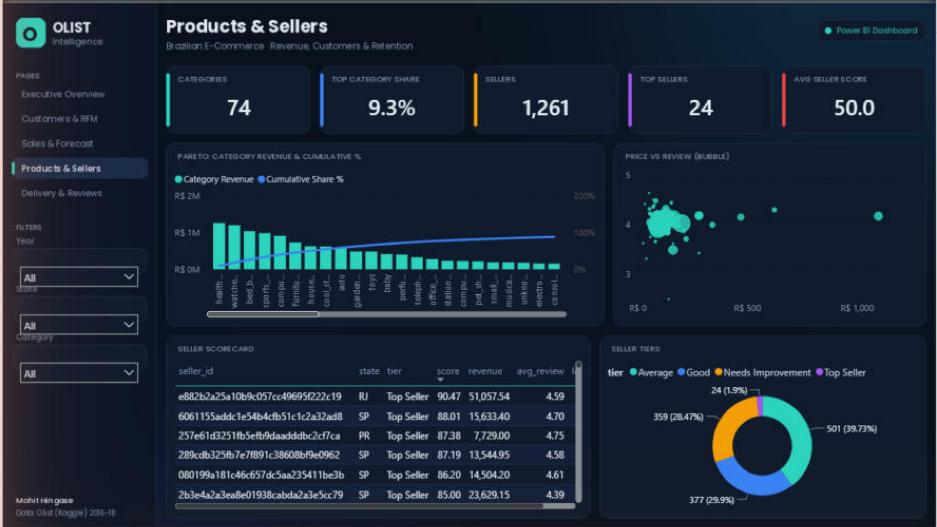

Layout of this report page (visuals, bound fields, positions):
{"tool":"powerbi","page":{"name":"Products & Sellers","canvas":[1280,720],"ordinal":3},"visuals":[{"type":"card","fields":{"Values":["agg_category.Category Count"]},"box":[234,112,179,62],"z":1000},{"type":"card","fields":{"Values":["agg_category.Top Category Share %"]},"box":[445,112,179,62],"z":1000},{"type":"card","fields":{"Values":["agg_seller_scorecard.Seller Count"]},"box":[656,112,179,62],"z":1000},{"type":"card","fields":{"Values":["agg_seller_scorecard.Top Sellers"]},"box":[868,112,179,62],"z":1000},{"type":"card","fields":{"Values":["agg_seller_scorecard.Avg Seller Score"]},"box":[1079,112,179,62],"z":1000},{"type":"lineClusteredColumnComboChart","fields":{"Category":["agg_category.category"],"Y":["agg_category.Category Revenue"],"Y2":["agg_category.Cumulative Share %"]},"box":[230,222,588,214],"z":1000},{"type":"scatterChart","fields":{"Category":["agg_category.category"],"Size":["agg_category.Category Revenue"],"X":["agg_category.Avg Category Price"],"Y":["agg_category.Avg Category Review"]},"box":[844,222,416,214],"z":1000},{"type":"tableEx","fields":{"Values":["agg_seller_scorecard.seller_id","agg_seller_scorecard.state","agg_seller_scorecard.tier","agg_seller_scorecard.score","agg_seller_scorecard.revenue","agg_seller_scorecard.avg_review","agg_seller_scorecard.late_pct"]},"box":[230,486,569,214],"z":1000},{"type":"donutChart","fields":{"Category":["agg_seller_scorecard.tier"],"Y":["agg_seller_scorecard.Seller Count"]},"box":[825,486,435,214],"z":1000},{"type":"slicer","fields":{"Values":["dim_date.year"]},"box":[14,351,182,40],"z":3000},{"type":"slicer","fields":{"Values":["dim_customer.state"]},"box":[14,417,182,40],"z":3000},{"type":"slicer","fields":{"Values":["dim_product.category"]},"box":[14,483,182,40],"z":3000},{"type":"actionButton","box":[12,110,186,28],"z":4000},{"type":"actionButton","box":[12,144,186,28],"z":4001},{"type":"actionButton","box":[12,178,186,28],"z":4002},{"type":"actionButton","box":[12,246,186,28],"z":4004}]}

Visuals, with their boxes on the page's 1280x720 design canvas (x1, y1, x2, y2). These are canvas units, not pixel positions in the 937x527 screenshot, which may show the page scaled, cropped or inside an application window:
card - agg_category.Category Count: 234/112/413/174
card - agg_category.Top Category Share %: 445/112/624/174
card - agg_seller_scorecard.Seller Count: 656/112/835/174
card - agg_seller_scorecard.Top Sellers: 868/112/1047/174
card - agg_seller_scorecard.Avg Seller Score: 1079/112/1258/174
lineClusteredColumnComboChart - agg_category.category x agg_category.Category Revenue: 230/222/818/436
scatterChart - agg_category.category x agg_category.Category Revenue: 844/222/1260/436
tableEx - agg_seller_scorecard.seller_id x agg_seller_scorecard.state: 230/486/799/700
donutChart - agg_seller_scorecard.tier x agg_seller_scorecard.Seller Count: 825/486/1260/700
slicer - dim_date.year: 14/351/196/391
slicer - dim_customer.state: 14/417/196/457
slicer - dim_product.category: 14/483/196/523
actionButton: 12/110/198/138
actionButton: 12/144/198/172
actionButton: 12/178/198/206
actionButton: 12/246/198/274
